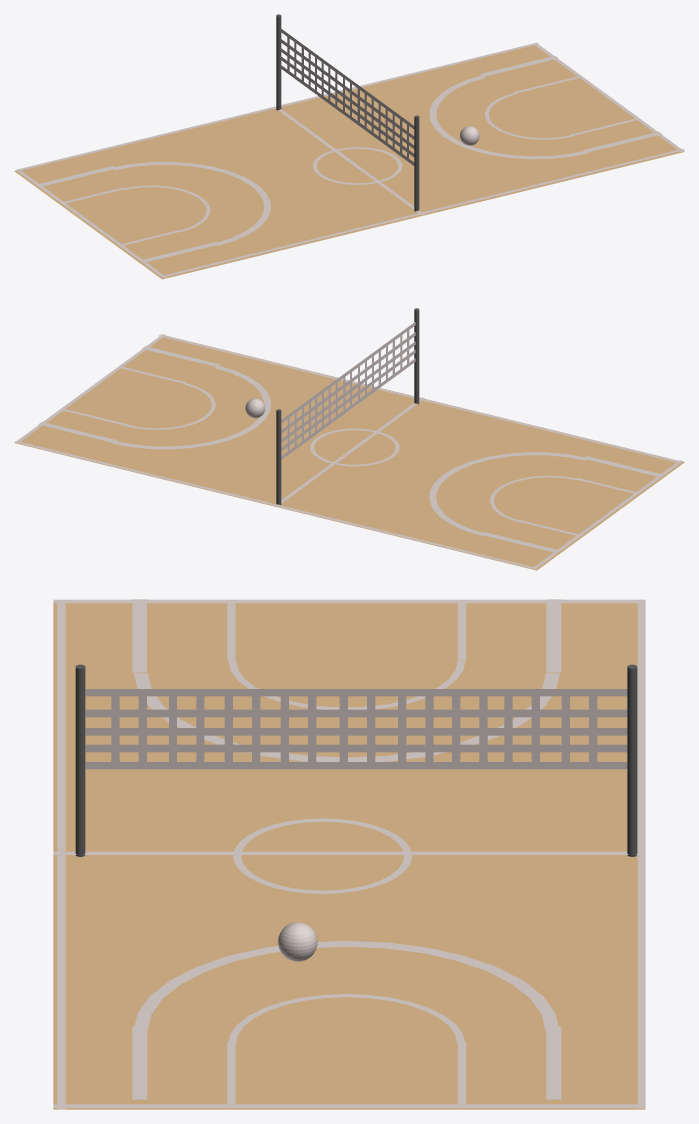
Rendered from volley ball.fbx.
3 views of the same model, one above another, from view 1: azimuth 30°, elevation 25°; view 2: azimuth 150°, elevation 25°; view 3: azimuth 270°, elevation 25° (orthographic). The views are drawn at different scales.
Visible parts, largest first — view 1: Plane, Plane.014, Plane.009, Plane.008, Plane.004, Plane.005, Plane.006, Plane.007, Plane.003, Plane.001, Cylinder.001, Plane.002 (+2 smaller); view 2: Plane, Plane.014, Plane.008, Plane.009, Plane.005, Plane.004, Plane.006, Plane.007, Plane.003, Plane.001, Circle, Cylinder (+2 smaller); view 3: Plane, Plane.014, Plane.009, Plane.005, Plane.004, Plane.008, Plane.003, Plane.006, Plane.002, Plane.001, Cylinder, Cylinder.001 (+3 smaller).
Part boxes in pixels (x1,y1,x2,y2): Plane: (14,45,684,279); Plane.014: (280,28,414,165); Plane.009: (429,56,661,159); Plane.008: (38,162,270,262); Plane.004: (164,148,684,276); Plane.005: (19,42,538,170); Plane.006: (485,76,639,139); Plane.007: (64,185,210,245); Plane.003: (16,169,166,278); Plane.001: (278,109,424,215); Cylinder.001: (414,115,419,211); Plane.002: (535,44,684,151); Plane: (15,335,684,570); Plane.014: (281,322,415,459); Plane.008: (429,452,661,552); Plane.009: (38,346,271,449); Plane.005: (14,441,533,568); Plane.004: (159,334,678,462); Plane.006: (61,366,215,429); Plane.007: (490,475,635,535); Plane.003: (532,460,682,569); Plane.001: (276,397,424,504); Circle: (310,428,399,466); Cylinder: (276,409,281,505); Plane: (53,603,645,1109); Plane.014: (85,689,627,769); Plane.009: (132,941,561,1099); Plane.005: (637,601,645,1108); Plane.004: (57,603,65,1109); Plane.008: (132,599,561,761); Plane.003: (53,599,645,603); Plane.006: (227,994,466,1106); Plane.002: (53,1104,637,1107); Plane.001: (53,851,637,854); Cylinder: (627,664,637,856); Cylinder.001: (75,664,85,856).
Bounding box in the file's own units: 1811 × 312 × 887.
